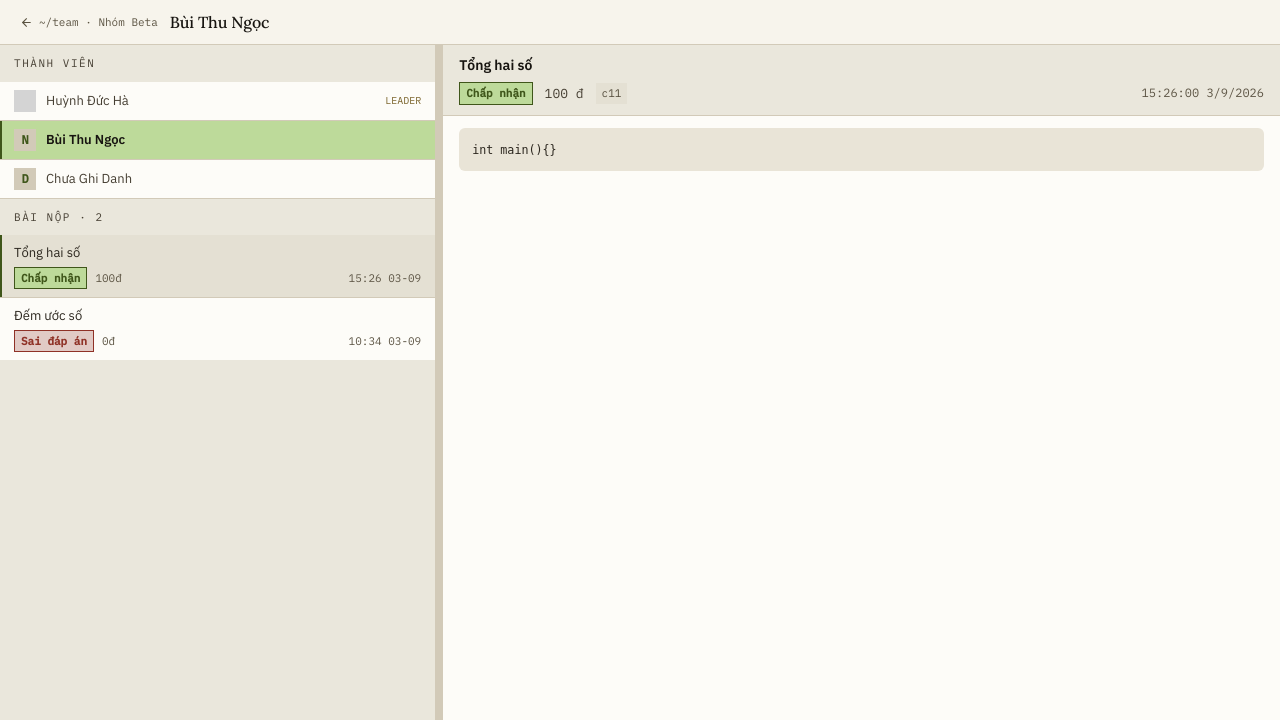
Test: trang riêng của một thành viên — hai panel › bấm một lượt khác thì panel phải đổi theo
This screenshot has width=1280, height=720.
Check: the text "int main(){}" is shown, box top-left (472, 142), bottom-right (557, 156)
Step 1. Click the button "Đếm ước số Sai đáp án 0đ 10:34 03-09" → (48, 316), box top-left (0, 298), bottom-right (435, 360)
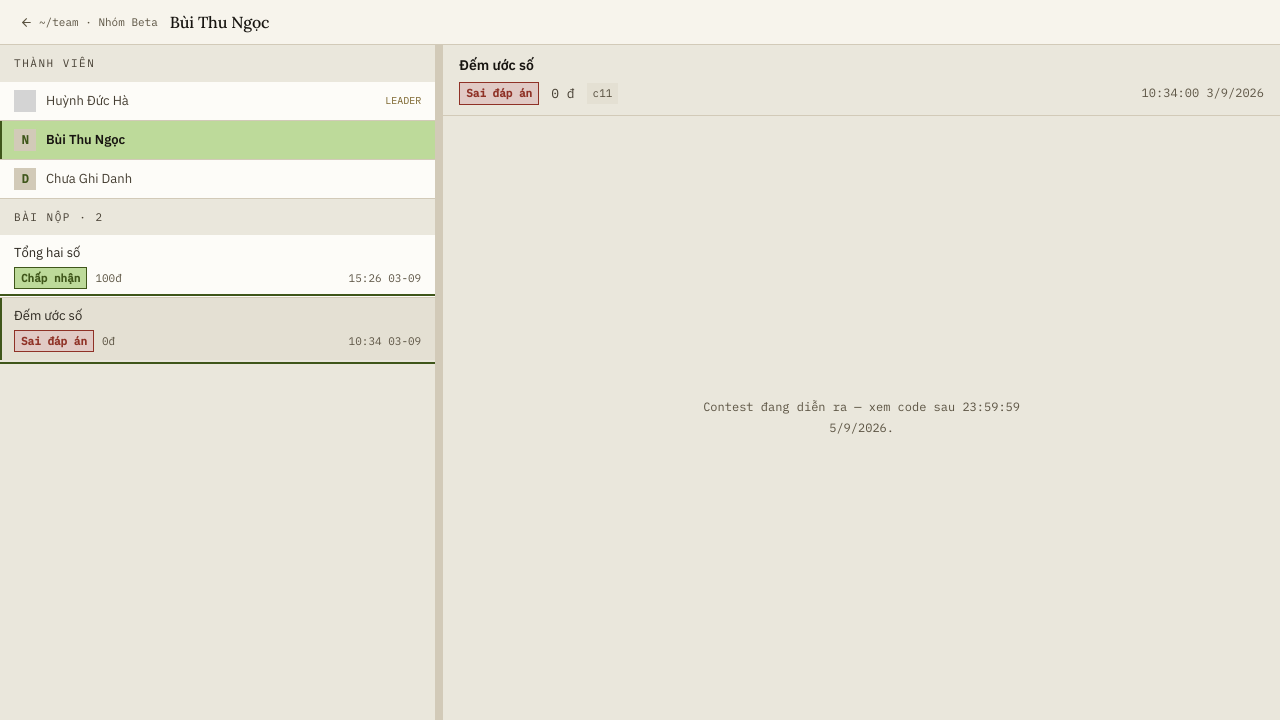
Check: the text "Contest đang diễn ra — xem code sau 23:59:59 5/9/2026." is shown, box top-left (703, 399), bottom-right (1020, 435)
Check: the text "int main(){}" is gone
